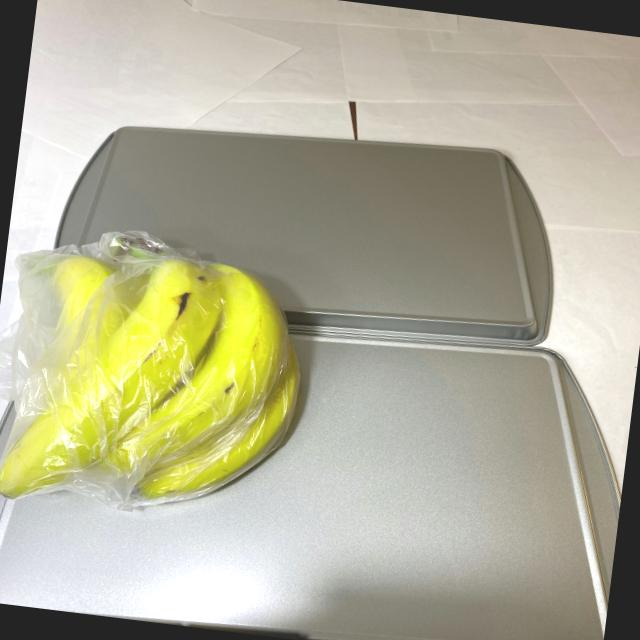banana: (0, 211, 327, 535)
